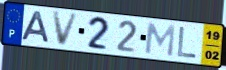2: (86, 15, 111, 53), (115, 20, 139, 54)
A: (19, 10, 51, 45)
L: (176, 25, 198, 60)
M: (143, 22, 177, 59)
V: (51, 11, 81, 48)
